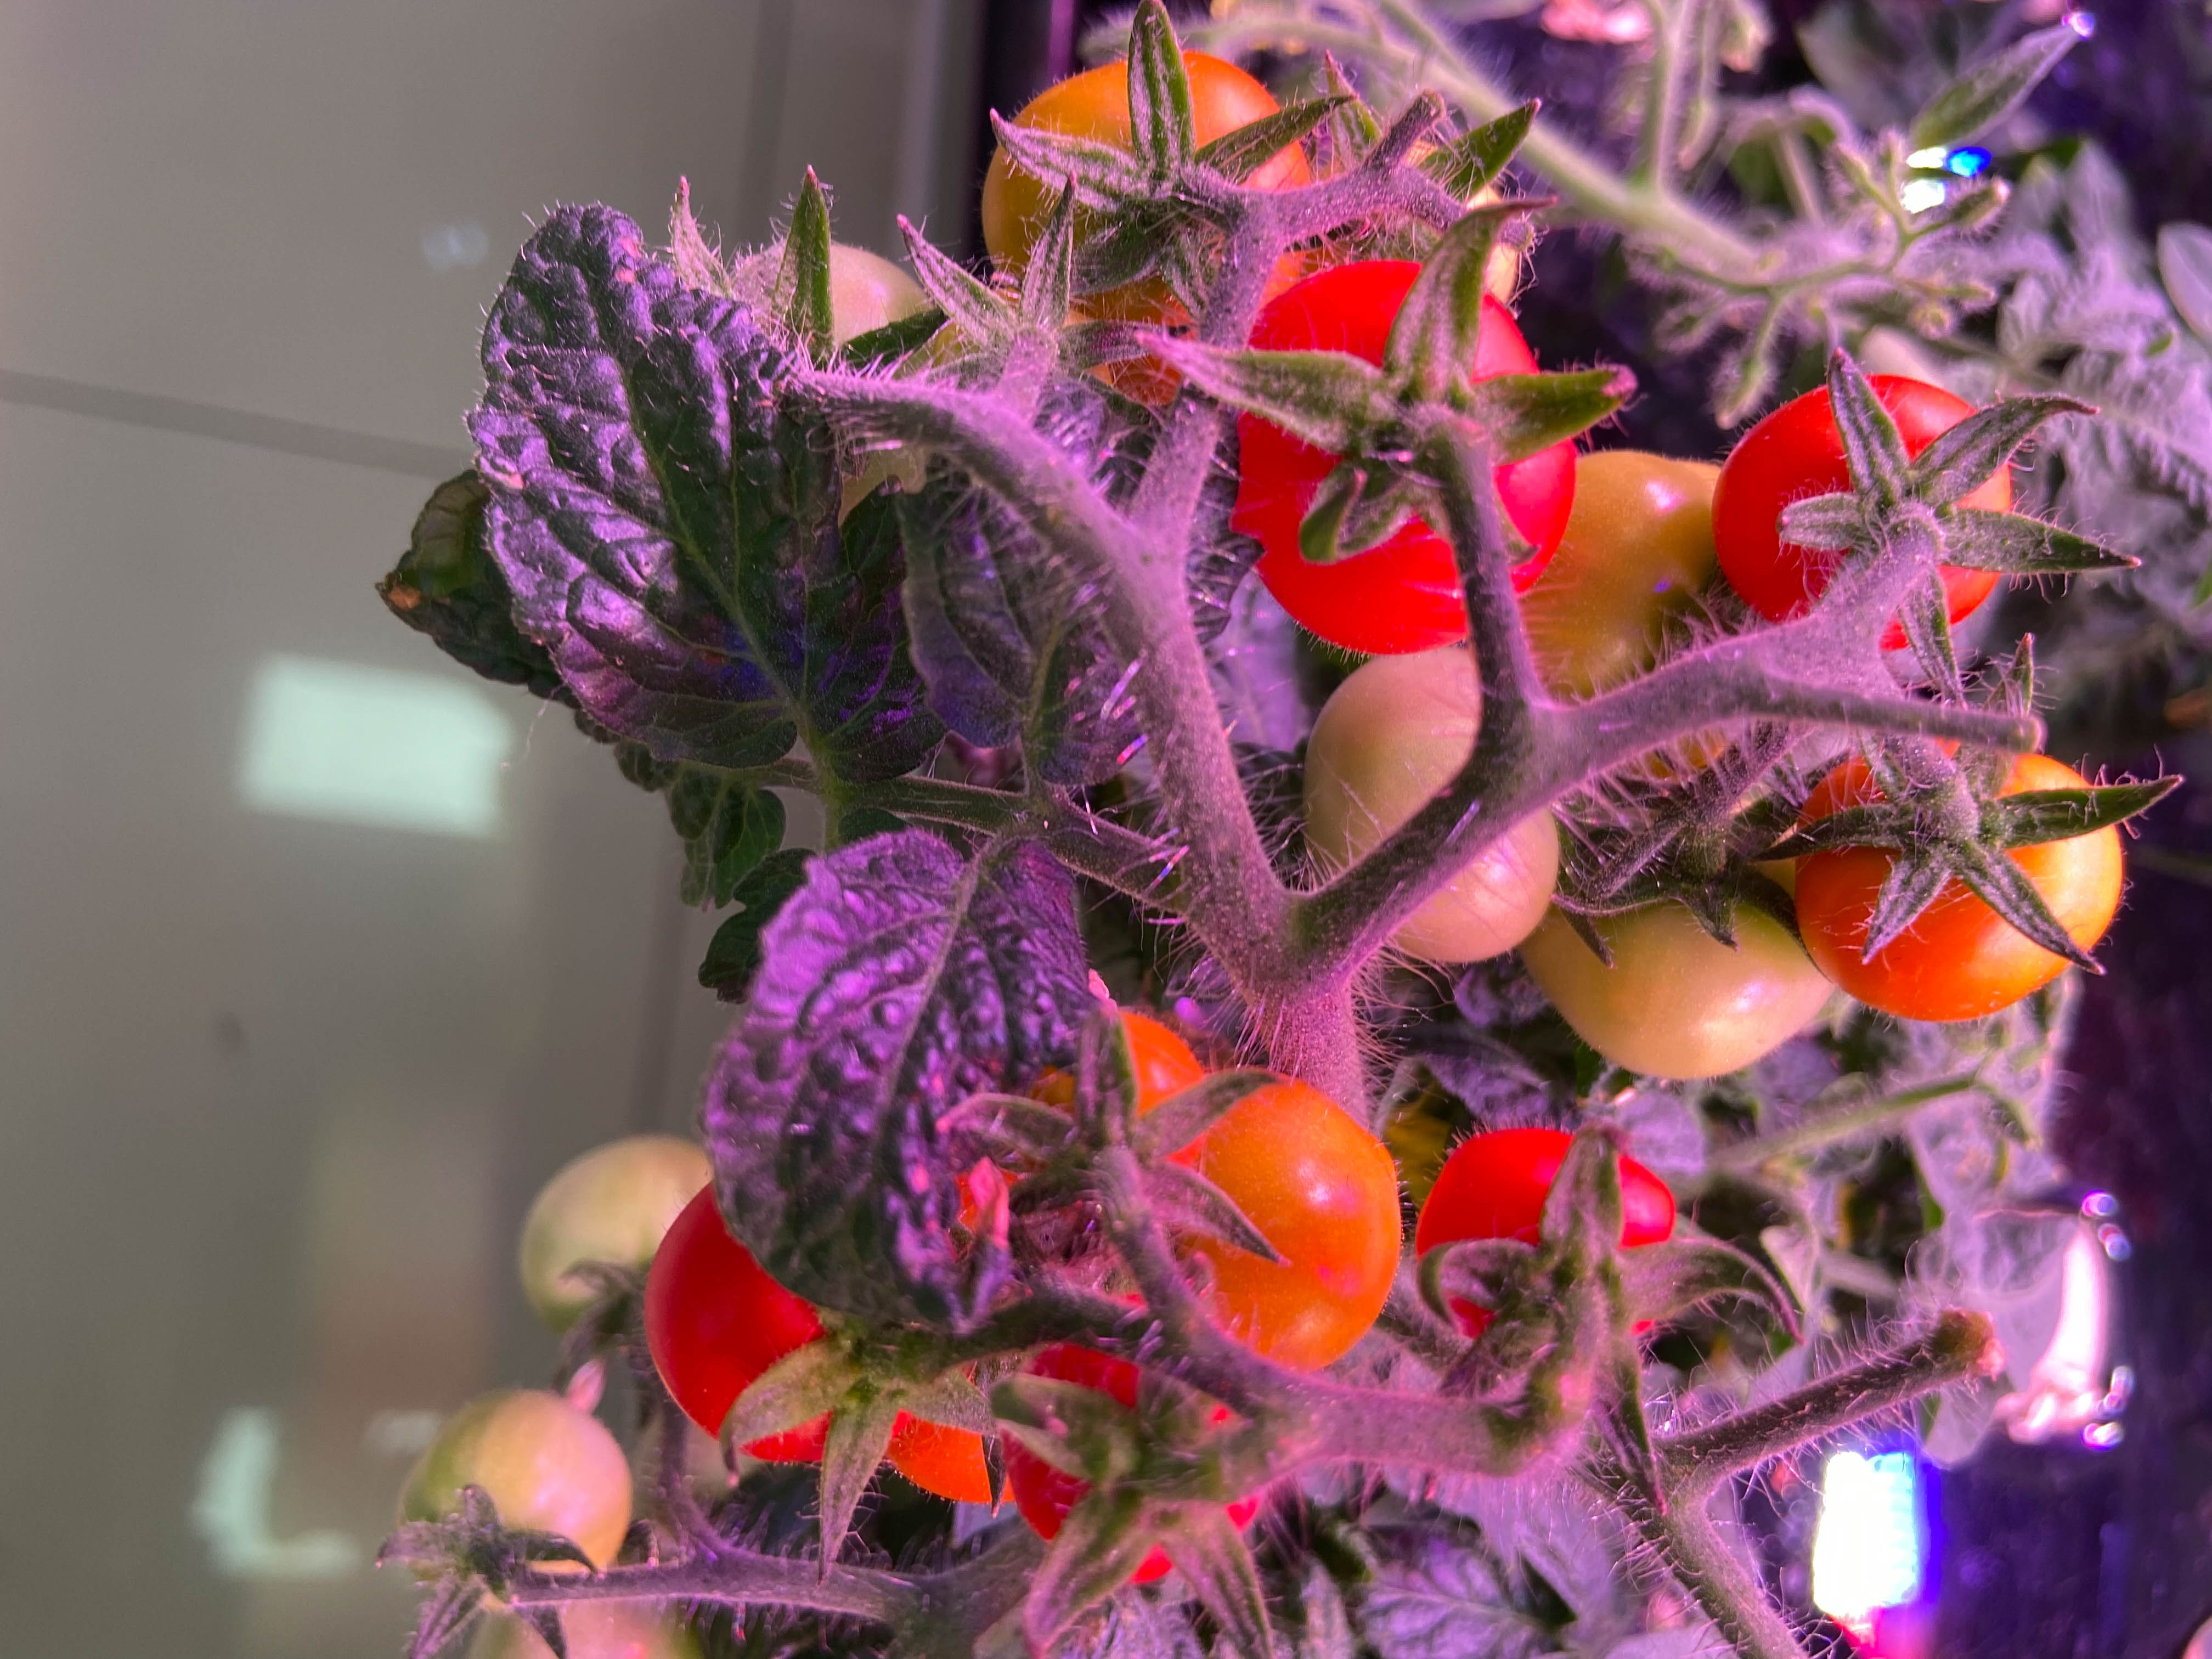green: (1301, 647, 1566, 969), (1529, 826, 1836, 1082), (514, 1129, 728, 1377), (747, 240, 942, 368)
red: (1223, 253, 1587, 662), (975, 38, 1320, 340), (1789, 727, 2121, 1018), (1118, 1063, 1407, 1377), (1712, 368, 2020, 653), (960, 997, 1212, 1300), (1407, 1115, 1681, 1363), (1474, 432, 1709, 690), (650, 1180, 873, 1450), (387, 1384, 636, 1624), (986, 1349, 1233, 1584), (883, 1375, 1012, 1502)
